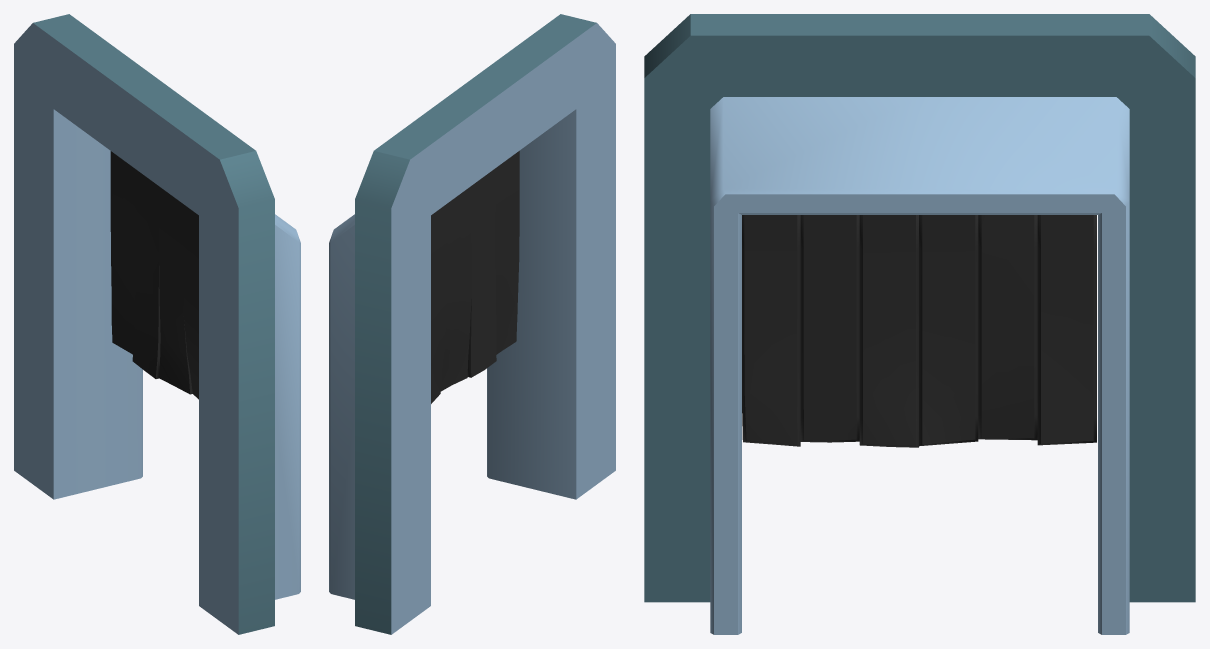
The model's file is airport-baggage-carousel-3.glb.
3 views of the same model, side by side, from view 1: azimuth 30°, elevation 25°; view 2: azimuth 150°, elevation 25°; view 3: azimuth 270°, elevation 25° (orthographic). The views are drawn at different scales.
Parts seen in each view (by area): view 1: 12.1.BaggageClaimBand_AIRPORT_0; view 2: 12.1.BaggageClaimBand_AIRPORT_0; view 3: 12.1.BaggageClaimBand_AIRPORT_0.
Part boxes in pixels (<box>): 12.1.BaggageClaimBand_AIRPORT_0: <box>14,14,300,634</box>; 12.1.BaggageClaimBand_AIRPORT_0: <box>329,14,615,634</box>; 12.1.BaggageClaimBand_AIRPORT_0: <box>644,14,1195,634</box>.
Bounding box in the file's own units: 0.6198 × 3.01 × 2.66.
Materials: 1 (1 with a texture image).
